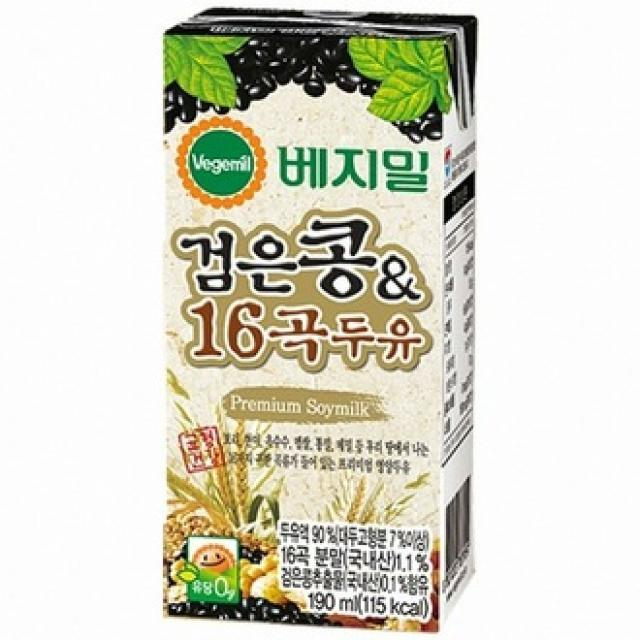Tetra: (146, 1, 488, 640)
